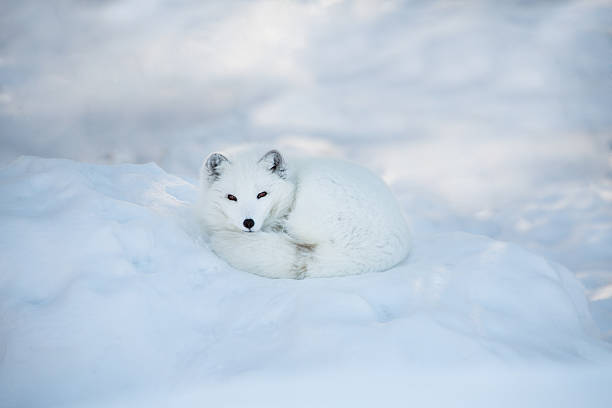arcticfox: (211, 171, 273, 236)
